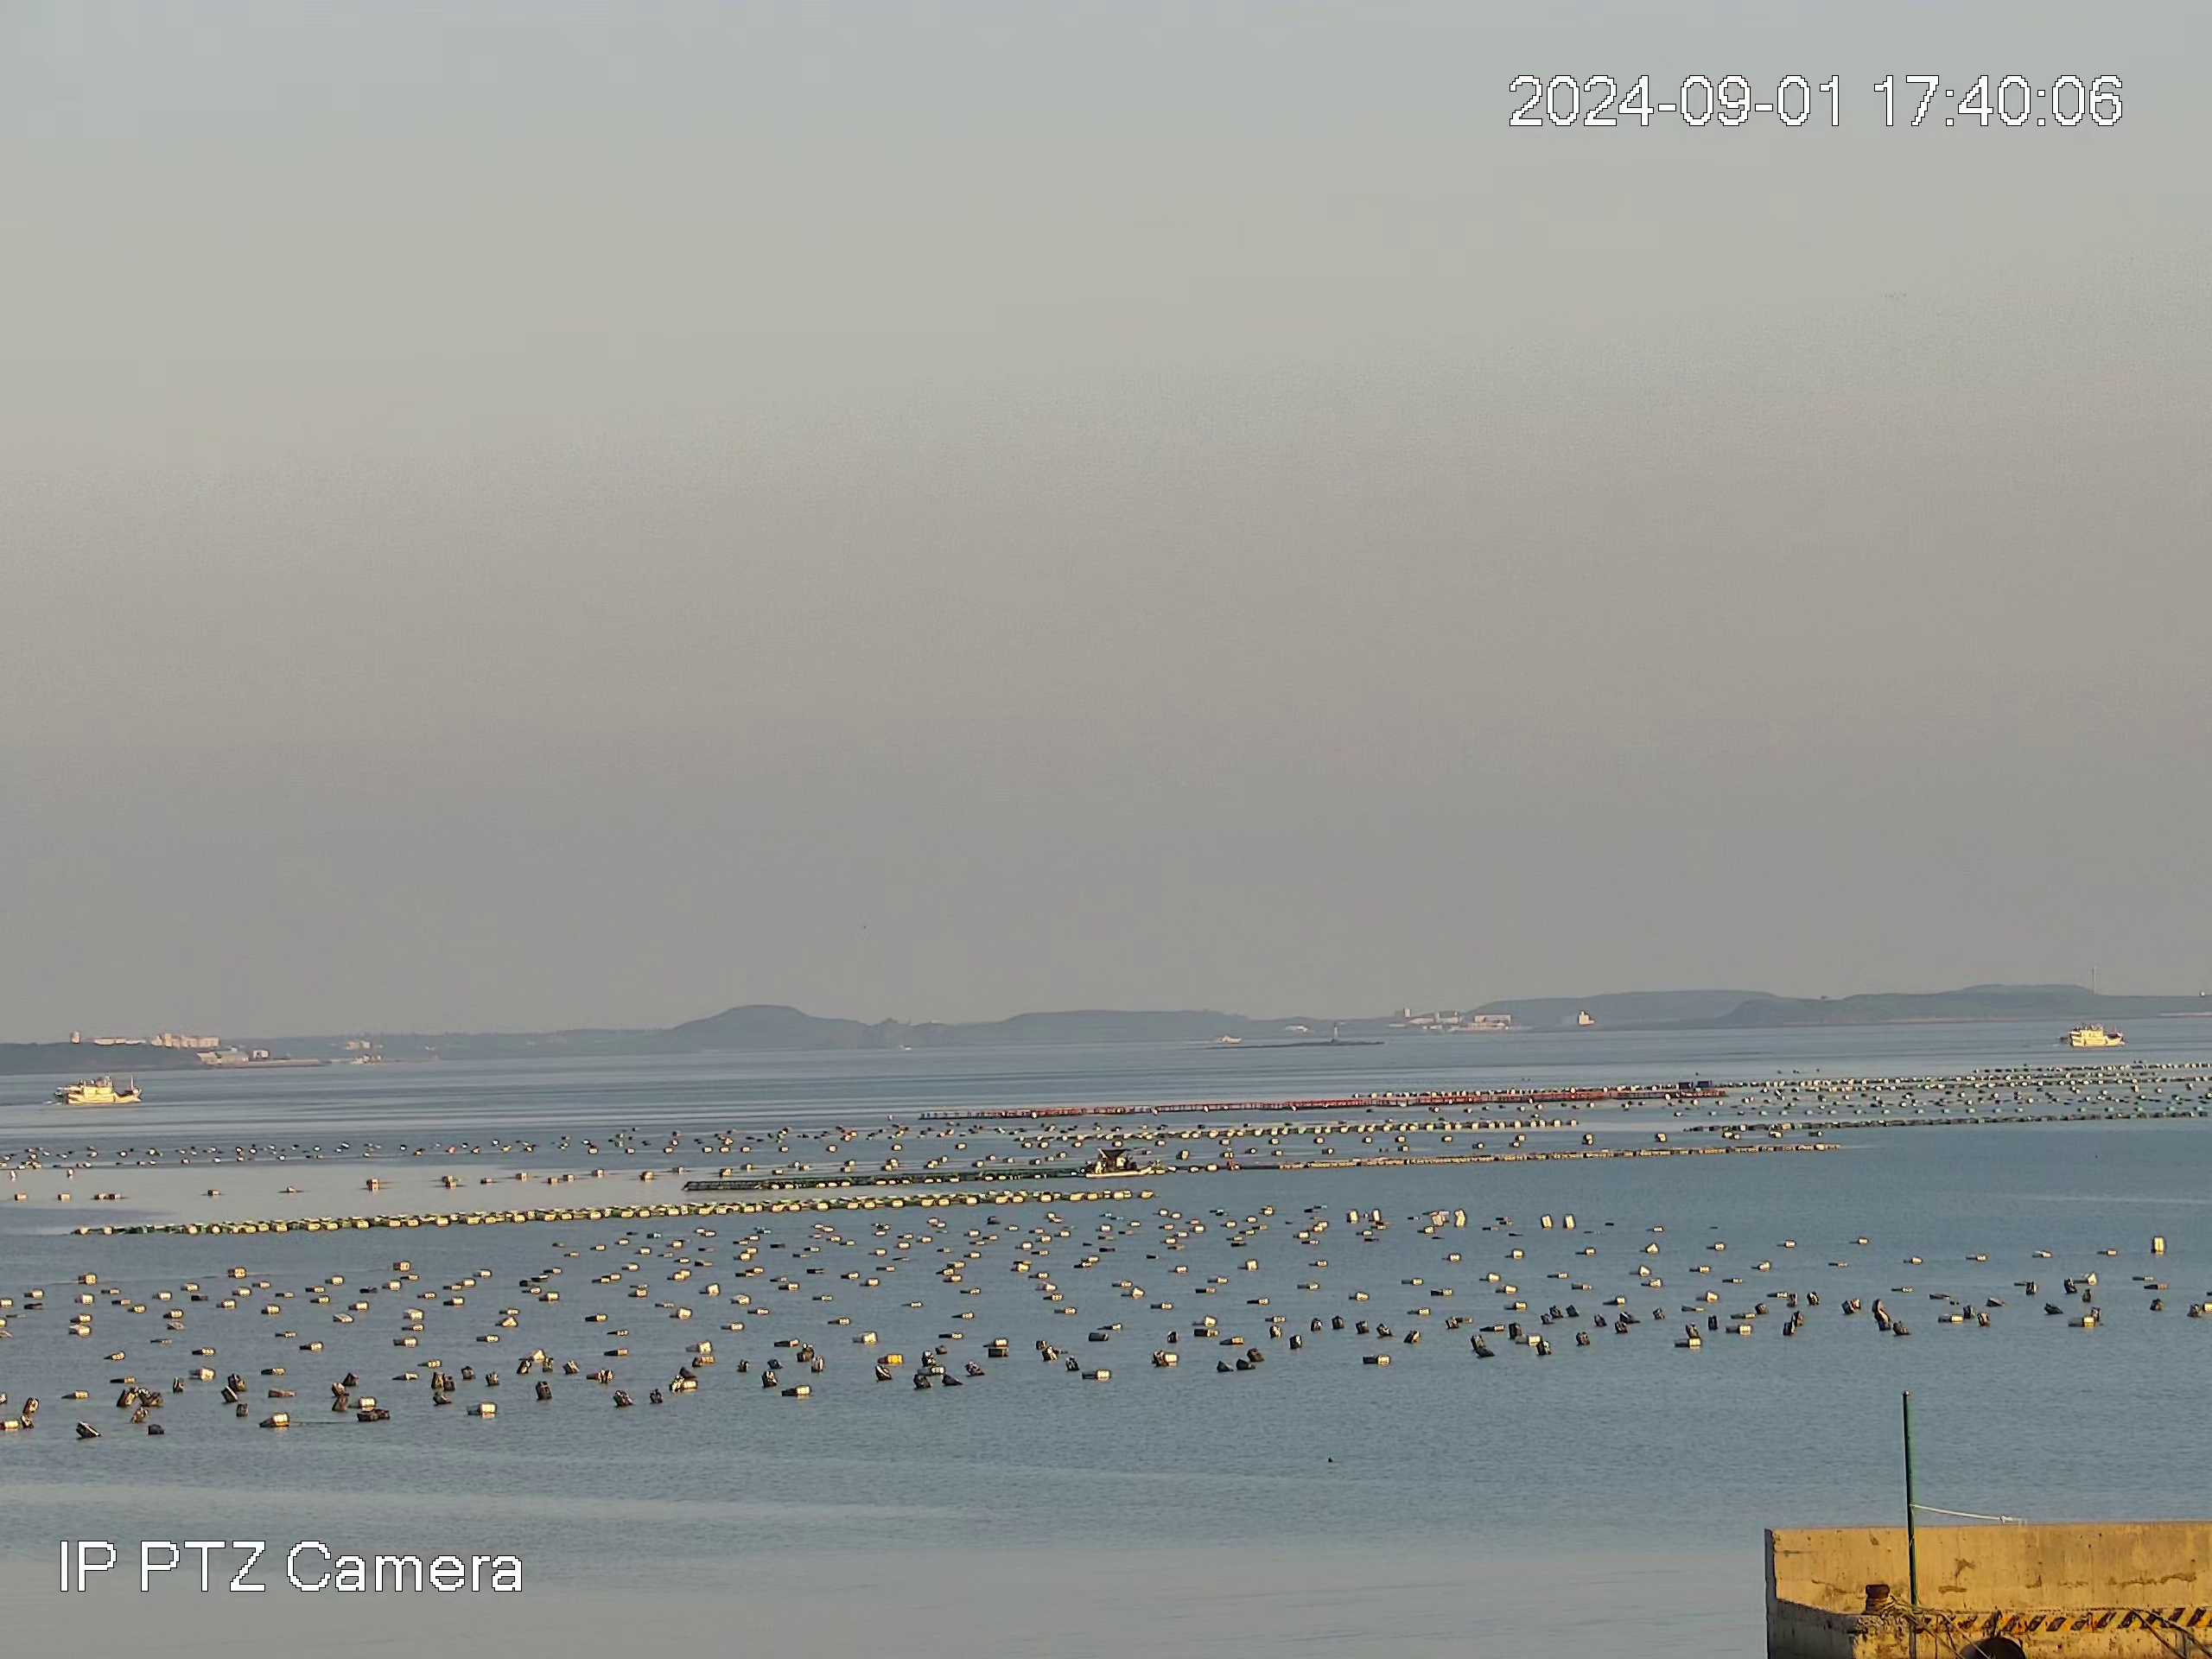boat: (1092, 1141, 1153, 1176), (2059, 1023, 2127, 1051)
